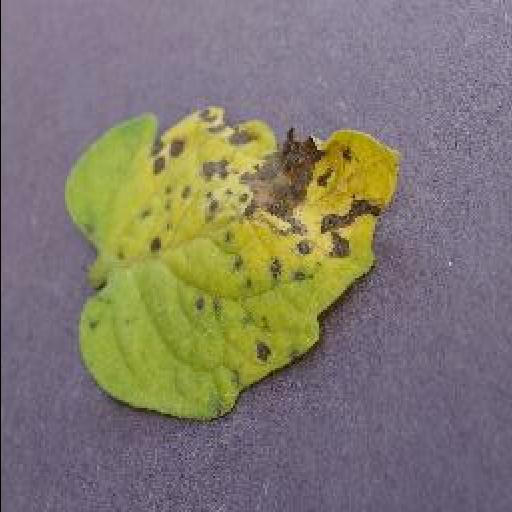disease_tomato: (60, 108, 404, 424)
